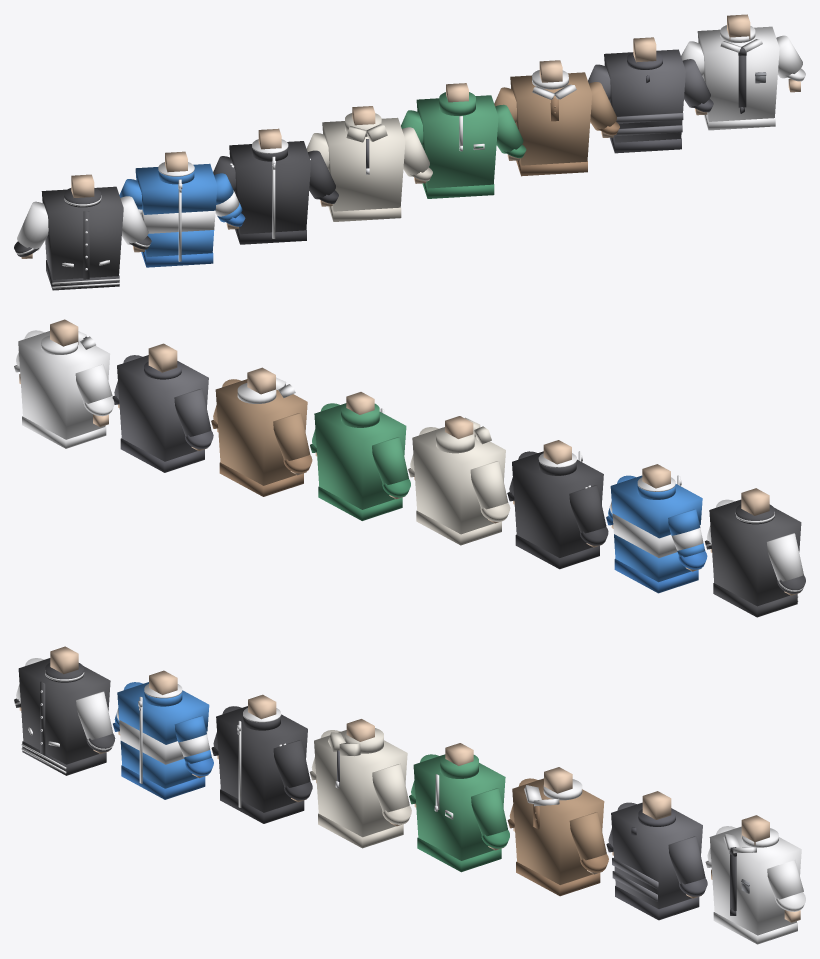
The model's file is row4_showcase.glb.
The picture shows the model from 3 angles, top to bottom: view 1: azimuth 30°, elevation 25°; view 2: azimuth 150°, elevation 25°; view 3: azimuth 330°, elevation 25°; orthographic projection. The views are drawn at different scales.
Visible parts, largest first — view 1: Torso_01_varsity_black, Torso_04_halfzip_cream, Torso_03_track_stripes, Torso_05_halfzip_green, Torso_06_polo_brown, Torso_08_formal_tie, Torso_07_crewneck_charcoal, Torso_Upper_02_track_blue, Torso_Lower_02_track_blue, Torso_Band_02_track_blue, Sleeve_R_01_varsity_black, Sleeve_L_04_halfzip_cream (+21 smaller); view 2: Torso_08_formal_tie, Torso_07_crewneck_charcoal, Torso_01_varsity_black, Torso_03_track_stripes, Torso_05_halfzip_green, Torso_04_halfzip_cream, Torso_06_polo_brown, Torso_Upper_02_track_blue, Torso_Lower_02_track_blue, Sleeve_R_04_halfzip_cream, Sleeve_R_07_crewneck_charcoal, Sleeve_R_06_polo_brown (+22 smaller); view 3: Torso_03_track_stripes, Torso_05_halfzip_green, Torso_04_halfzip_cream, Torso_06_polo_brown, Torso_08_formal_tie, Torso_01_varsity_black, Torso_07_crewneck_charcoal, Torso_Upper_02_track_blue, Torso_Lower_02_track_blue, Sleeve_L_04_halfzip_cream, Sleeve_L_05_halfzip_green, Sleeve_L_06_polo_brown (+21 smaller).
Boxes of the visible parts, x1,y1,x2,y2 form: Torso_01_varsity_black: [41, 186, 123, 279]; Torso_04_halfzip_cream: [322, 117, 405, 211]; Torso_03_track_stripes: [229, 141, 310, 234]; Torso_05_halfzip_green: [416, 95, 498, 188]; Torso_06_polo_brown: [510, 72, 592, 165]; Torso_08_formal_tie: [697, 26, 779, 121]; Torso_07_crewneck_charcoal: [604, 49, 685, 142]; Torso_Upper_02_track_blue: [135, 163, 217, 214]; Torso_Lower_02_track_blue: [145, 230, 214, 256]; Torso_Band_02_track_blue: [140, 210, 215, 233]; Sleeve_R_01_varsity_black: [17, 201, 48, 250]; Sleeve_L_04_halfzip_cream: [402, 127, 429, 176]; Torso_08_formal_tie: [18, 331, 110, 439]; Torso_07_crewneck_charcoal: [117, 355, 208, 461]; Torso_01_varsity_black: [709, 499, 801, 606]; Torso_03_track_stripes: [512, 451, 603, 557]; Torso_05_halfzip_green: [314, 403, 406, 509]; Torso_04_halfzip_cream: [412, 427, 505, 534]; Torso_06_polo_brown: [215, 379, 307, 485]; Torso_Upper_02_track_blue: [610, 475, 702, 538]; Torso_Lower_02_track_blue: [614, 534, 691, 582]; Sleeve_R_04_halfzip_cream: [470, 461, 508, 509]; Sleeve_R_07_crewneck_charcoal: [174, 388, 211, 436]; Sleeve_R_06_polo_brown: [273, 413, 310, 460]; Torso_03_track_stripes: [216, 706, 307, 812]; Torso_05_halfzip_green: [413, 754, 505, 860]; Torso_04_halfzip_cream: [314, 730, 407, 837]; Torso_06_polo_brown: [512, 778, 604, 884]; Torso_08_formal_tie: [709, 826, 801, 935]; Torso_01_varsity_black: [18, 658, 110, 764]; Torso_07_crewneck_charcoal: [611, 802, 702, 908]; Torso_Upper_02_track_blue: [117, 682, 209, 744]; Torso_Lower_02_track_blue: [120, 741, 197, 788]; Sleeve_L_04_halfzip_cream: [372, 763, 409, 812]; Sleeve_L_05_halfzip_green: [471, 788, 507, 836]; Sleeve_L_06_polo_brown: [569, 812, 606, 860].
Size of what is drawn, in the model's own units: 3.93 by 0.487 by 0.3453.
